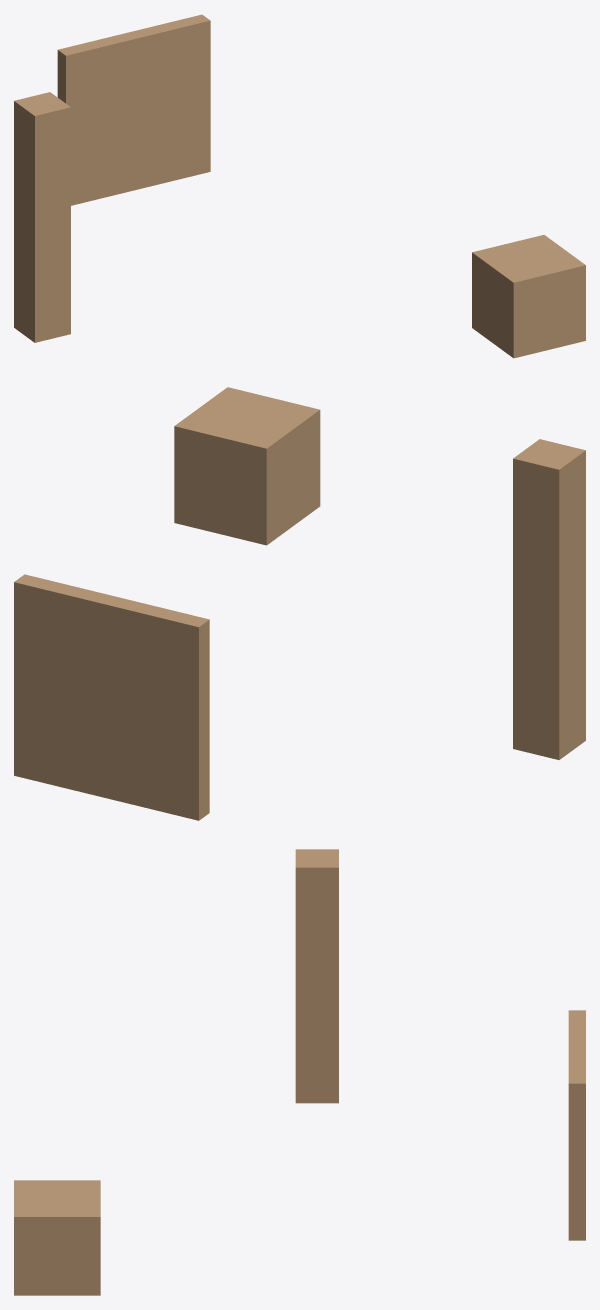
The model's file is courtyard.gltf.
The picture shows the model from 3 angles, top to bottom: view 1: azimuth 30°, elevation 25°; view 2: azimuth 150°, elevation 25°; view 3: azimuth 270°, elevation 25°; orthographic projection. The views are drawn at different scales.
Visible parts, largest first — view 1: Door, Pillar, Crate; view 2: Door, Pillar, Crate; view 3: Pillar, Crate, Door.
Part boxes in pixels (box(x1,y1,x2,y2)): Door: box(57, 14, 210, 205); Pillar: box(14, 92, 70, 342); Crate: box(472, 235, 585, 358); Door: box(14, 574, 209, 820); Pillar: box(513, 439, 585, 759); Crate: box(174, 387, 320, 545); Pillar: box(295, 849, 338, 1103); Crate: box(14, 1180, 100, 1295); Door: box(568, 1010, 585, 1240).
Size of what is drawn, in the model's own units: 5.75 by 3 by 6.6.
